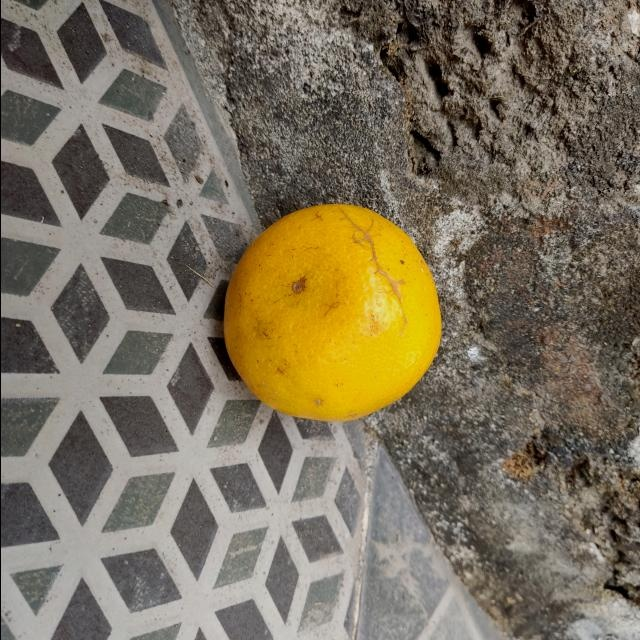agrume: (221, 200, 443, 424)
